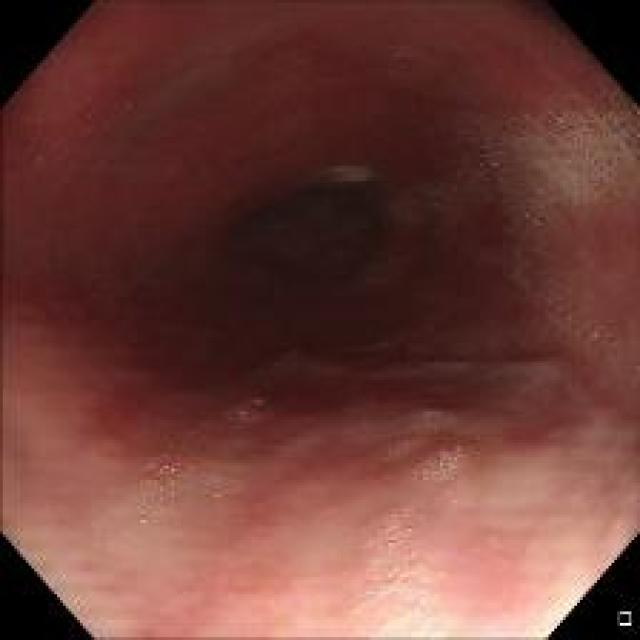bubbles: (460, 78, 635, 229), (359, 511, 446, 638), (528, 274, 634, 369), (120, 445, 182, 525), (218, 390, 275, 426), (425, 440, 470, 485)
color misalignment: (144, 451, 181, 476), (249, 399, 262, 411)
contrast: (151, 105, 464, 358)
saturation: (339, 601, 471, 636)
